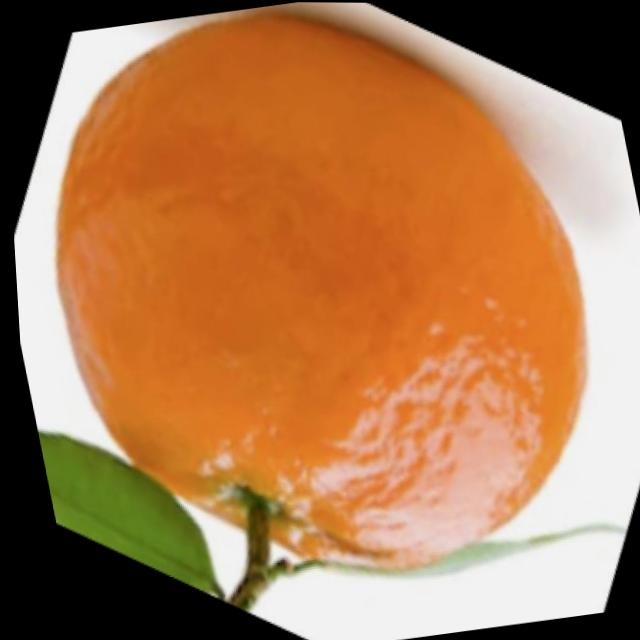Orange: (5, 0, 631, 616)
